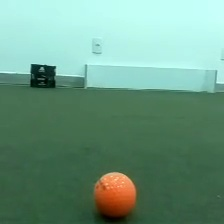ball: (91, 168, 138, 222)
goal: (82, 60, 219, 96)
robot: (28, 61, 57, 90)
